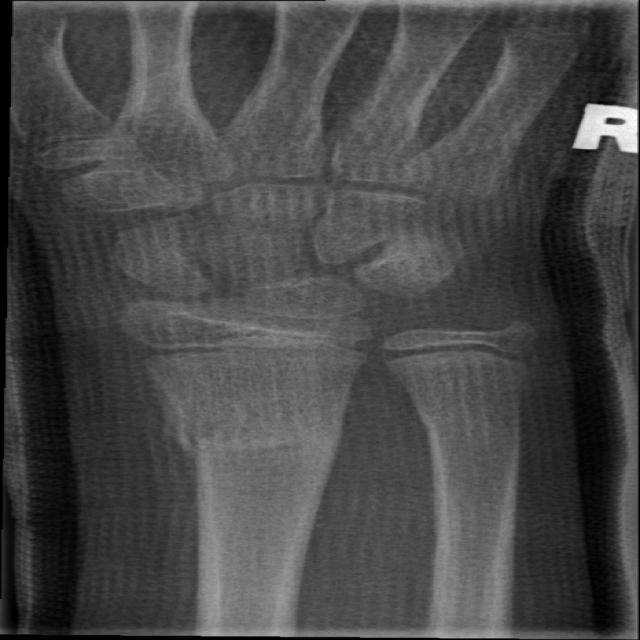radius fracture: (132, 383, 372, 477)
